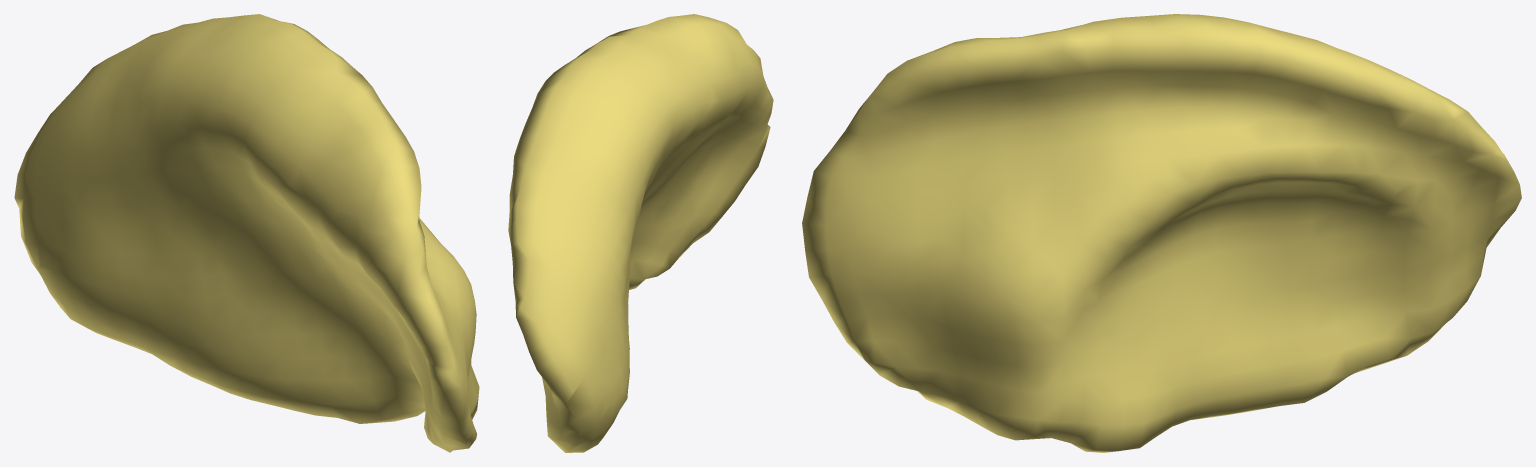
File: lentiform-nucleus-r.glb
3 views of the same model, side by side, from view 1: azimuth 30°, elevation 25°; view 2: azimuth 150°, elevation 25°; view 3: azimuth 270°, elevation 25° (orthographic). The views are drawn at different scales.
Visible parts, largest first — view 1: Lentiform nucleus.r; view 2: Lentiform nucleus.r; view 3: Lentiform nucleus.r.
Boxes of the visible parts, x1=… form: Lentiform nucleus.r: x1=14, y1=14, x2=479, y2=452; Lentiform nucleus.r: x1=508, y1=14, x2=773, y2=452; Lentiform nucleus.r: x1=802, y1=14, x2=1521, y2=452.
Size of the model in its own units: 0.0222 by 0.0321 by 0.0523.
